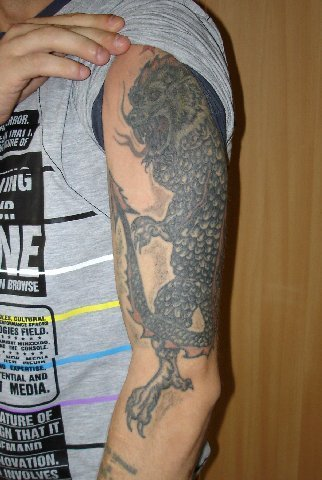tatu6_drakon: (101, 43, 248, 441)
